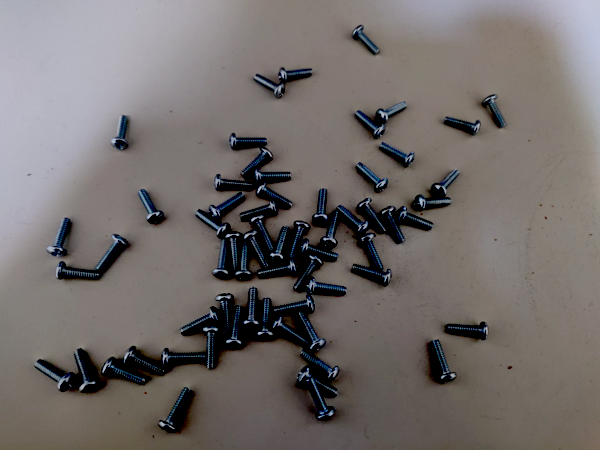shortscrew: (158, 388, 192, 434), (34, 359, 77, 393), (300, 349, 340, 384), (123, 346, 167, 376), (102, 357, 147, 386), (307, 377, 336, 421), (298, 367, 339, 398), (272, 315, 310, 348), (96, 233, 128, 272), (179, 307, 221, 336), (74, 348, 101, 393), (298, 311, 327, 352), (293, 254, 324, 292), (431, 340, 458, 383), (358, 198, 388, 235), (195, 209, 231, 239), (241, 147, 274, 179), (337, 205, 371, 236), (256, 181, 293, 209), (243, 230, 270, 268), (356, 162, 389, 193), (46, 218, 71, 258), (209, 193, 246, 220), (380, 206, 406, 244), (396, 206, 435, 231), (360, 233, 385, 272), (250, 214, 275, 253), (162, 348, 206, 370), (351, 264, 393, 287), (137, 190, 164, 225), (352, 24, 381, 56), (299, 239, 339, 262), (378, 143, 415, 167), (482, 94, 507, 129), (355, 110, 386, 138), (224, 306, 244, 349), (431, 169, 460, 198), (56, 261, 100, 280), (289, 221, 311, 259), (268, 226, 290, 264), (253, 74, 286, 99), (240, 199, 279, 220), (256, 298, 275, 341), (203, 325, 221, 370), (444, 115, 482, 136), (306, 277, 348, 296), (215, 294, 234, 336), (257, 259, 298, 278), (446, 322, 489, 340), (242, 287, 260, 330), (376, 101, 409, 124), (212, 240, 231, 279), (235, 242, 254, 281), (274, 296, 315, 314), (321, 211, 340, 248), (225, 232, 242, 272), (215, 174, 253, 191), (111, 115, 129, 150), (313, 188, 330, 225), (230, 134, 268, 150), (415, 195, 452, 211), (279, 68, 314, 83)
